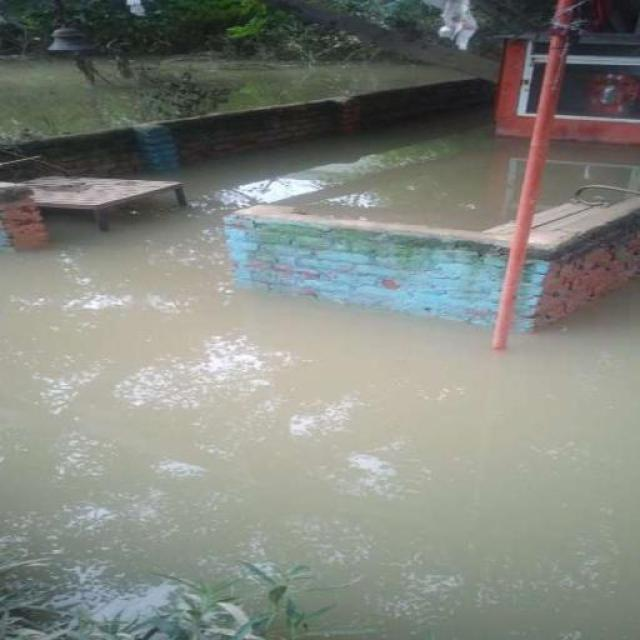puddle: (196, 339, 640, 640), (3, 258, 239, 625), (377, 166, 493, 227)
